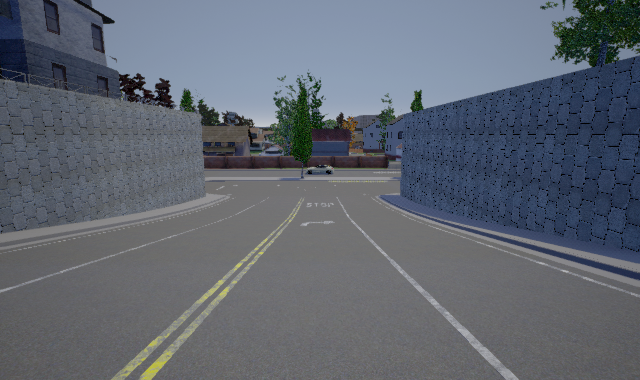vehicle: (305, 164, 334, 175)
